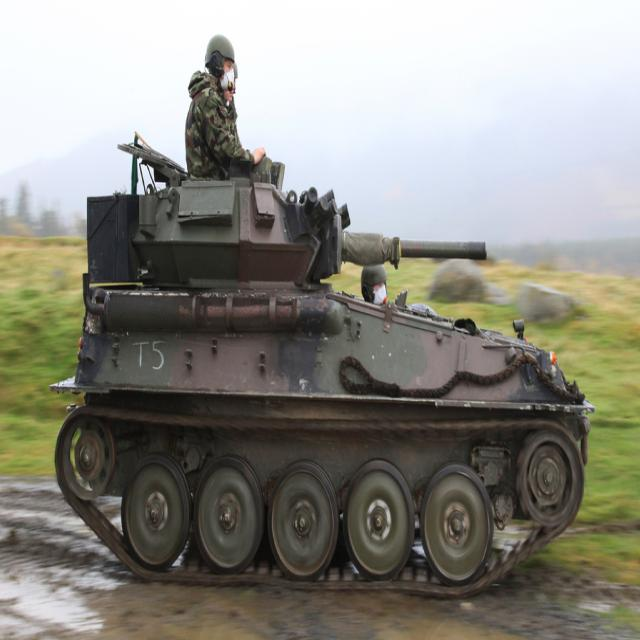tank: (52, 133, 596, 596)
